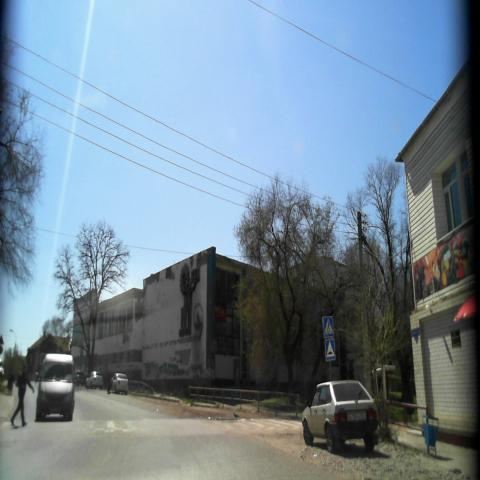5_19_1: (323, 315, 334, 339)
5_20: (324, 340, 336, 362)
